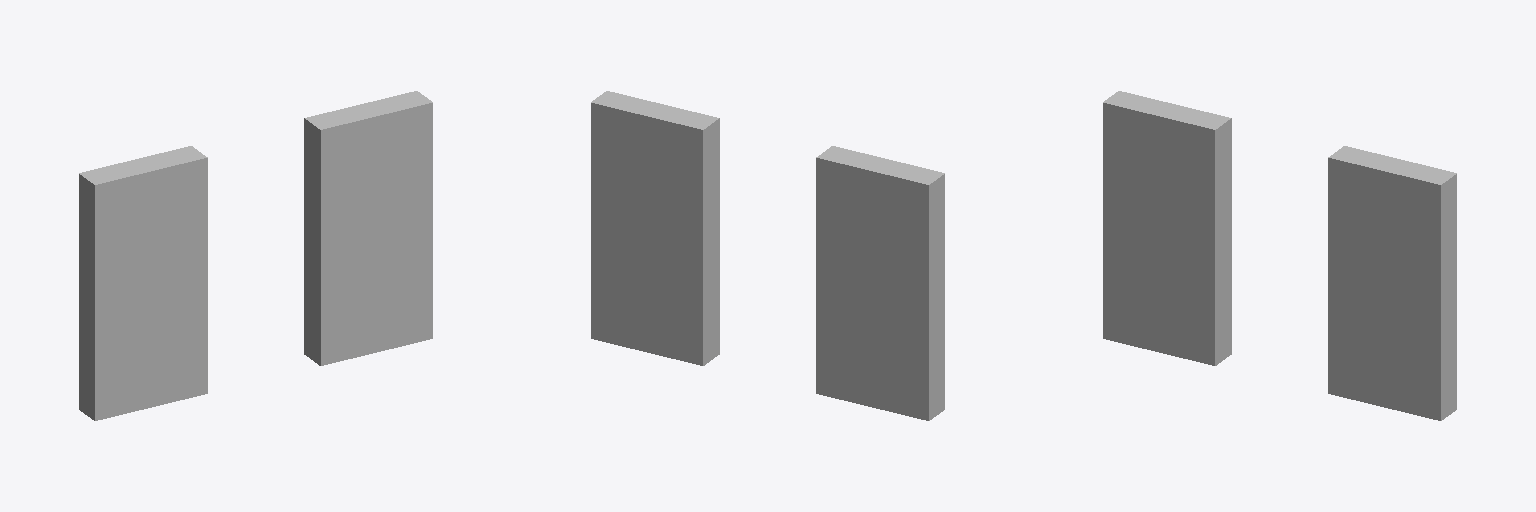
File: construct_eyes_neutral.obj
3 renders of one model, left to right at view 1: azimuth 30°, elevation 25°; view 2: azimuth 150°, elevation 25°; view 3: azimuth 330°, elevation 25°, orthographic.
Parts seen in each view (by area): view 1: EYES_NEUTRAL_Cube.020; view 2: EYES_NEUTRAL_Cube.020; view 3: EYES_NEUTRAL_Cube.020.
Boxes of the visible parts, <box> form: EYES_NEUTRAL_Cube.020: <box>79,91,432,420</box>; EYES_NEUTRAL_Cube.020: <box>591,91,944,420</box>; EYES_NEUTRAL_Cube.020: <box>1103,91,1456,420</box>.
Size of the model in its own units: 0.1875 by 0.125 by 0.0156.